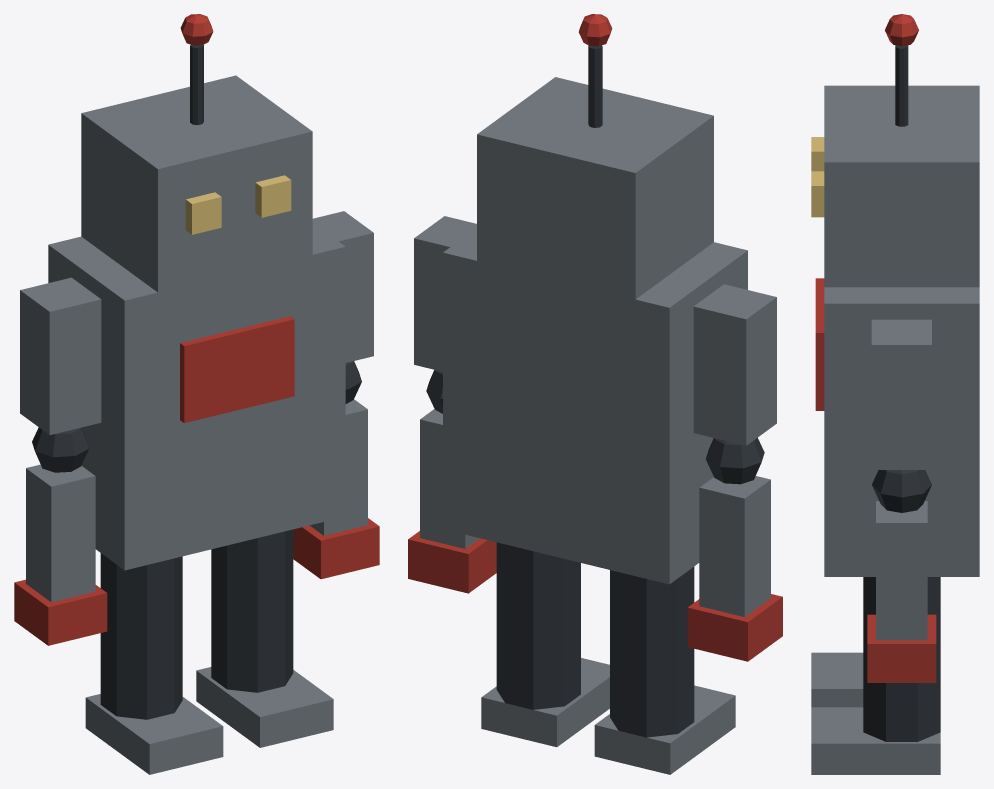
The model's file is robot.glb.
3 renders of one model, left to right at view 1: azimuth 30°, elevation 25°; view 2: azimuth 150°, elevation 25°; view 3: azimuth 270°, elevation 25°, orthographic. The views are drawn at different scales.
Parts seen in each view (by area): view 1: robot; view 2: robot; view 3: robot.
Boxes of the visible parts, x1,y1,x2,y2 form: robot: [14, 14, 379, 774]; robot: [408, 14, 782, 774]; robot: [811, 14, 979, 774].
Bounding box in the file's own units: 0.9 × 1.83 × 0.39.
